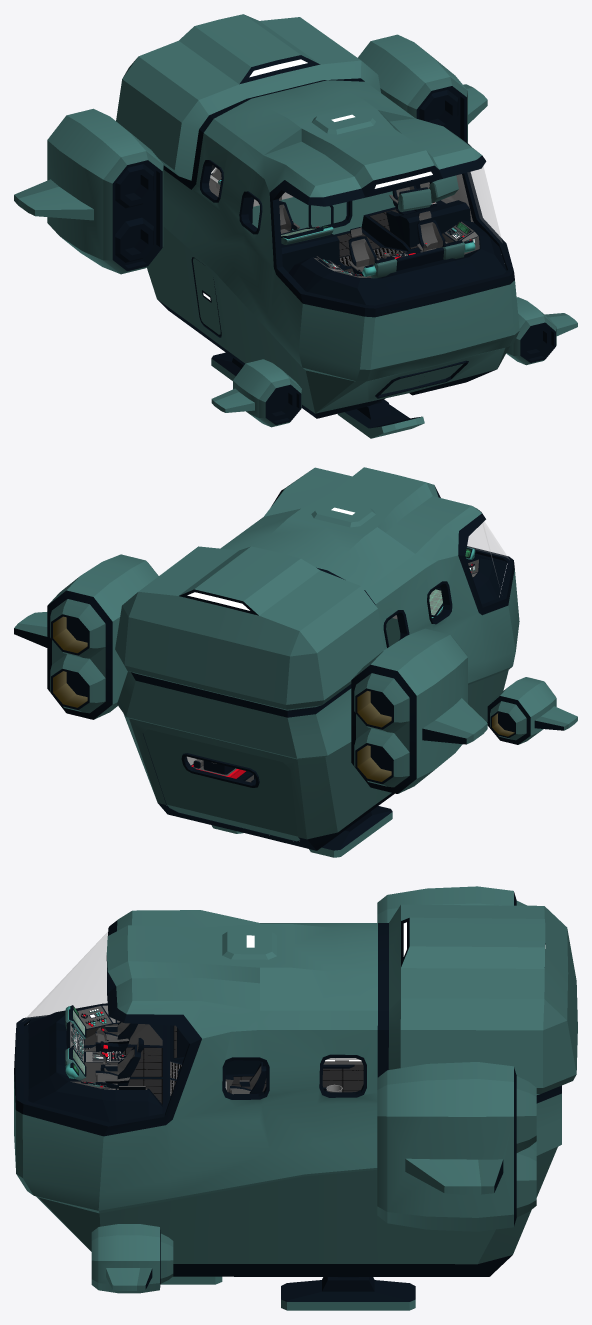
Rendered from zamboni-ship.glb.
The picture shows the model from 3 angles, top to bottom: view 1: azimuth 30°, elevation 25°; view 2: azimuth 150°, elevation 25°; view 3: azimuth 270°, elevation 25°; orthographic projection. The views are drawn at different scales.
Parts seen in each view (by area): view 1: Hull_Merged, Turbine Right, Dashboard Body, Turbine Left, Turbine.002, Dashboard Body.002, Turbine.001, Dials.002, Cube.002, Landing Gear Front, Door, Top Hatch (+7 smaller); view 2: Hull_Merged, Turbine Right, Turbine Left, Door Cargo, Turbine.002, Landing Gear Back Right, Dashboard Body, Top Hatch, Windshield; view 3: Hull_Merged, Turbine Left, Dashboard Body, Turbine.001, Landing Gear Back Left, Windshield, Turbine Right, Dials.002, Top Hatch, Seat, Floor Top.001.
Part boxes in pixels (bbox=[...]): Hull_Merged: bbox=[116, 14, 519, 418]; Turbine Right: bbox=[14, 108, 163, 274]; Dashboard Body: bbox=[289, 207, 506, 305]; Turbine Left: bbox=[358, 34, 487, 142]; Turbine.002: bbox=[211, 359, 301, 427]; Dashboard Body.002: bbox=[281, 186, 470, 272]; Turbine.001: bbox=[506, 297, 577, 365]; Dials.002: bbox=[316, 221, 475, 278]; Cube.002: bbox=[248, 184, 420, 234]; Landing Gear Front: bbox=[337, 399, 424, 438]; Door: bbox=[192, 257, 221, 336]; Top Hatch: bbox=[311, 108, 375, 134]; Hull_Merged: bbox=[115, 467, 519, 850]; Turbine Right: bbox=[351, 628, 487, 793]; Turbine Left: bbox=[14, 554, 158, 719]; Door Cargo: bbox=[143, 729, 299, 841]; Turbine.002: bbox=[487, 677, 577, 744]; Landing Gear Back Right: bbox=[309, 806, 392, 857]; Dashboard Body: bbox=[466, 553, 507, 604]; Top Hatch: bbox=[311, 500, 375, 527]; Windshield: bbox=[467, 521, 509, 571]; Hull_Merged: bbox=[14, 904, 577, 1276]; Turbine Left: bbox=[377, 1062, 536, 1231]; Dashboard Body: bbox=[23, 1003, 266, 1122]; Turbine.001: bbox=[91, 1224, 173, 1293]; Landing Gear Back Left: bbox=[281, 1277, 415, 1310]; Windshield: bbox=[24, 932, 107, 1020]; Turbine Right: bbox=[377, 886, 526, 922]; Dials.002: bbox=[65, 1005, 145, 1089]; Top Hatch: bbox=[222, 928, 276, 959]; Seat: bbox=[95, 1038, 143, 1088]; Floor Top.001: bbox=[322, 1064, 363, 1092].
Size of the model in its own units: 10.7 by 6.5 by 9.71.
Materials: 60 (24 with a texture image).
